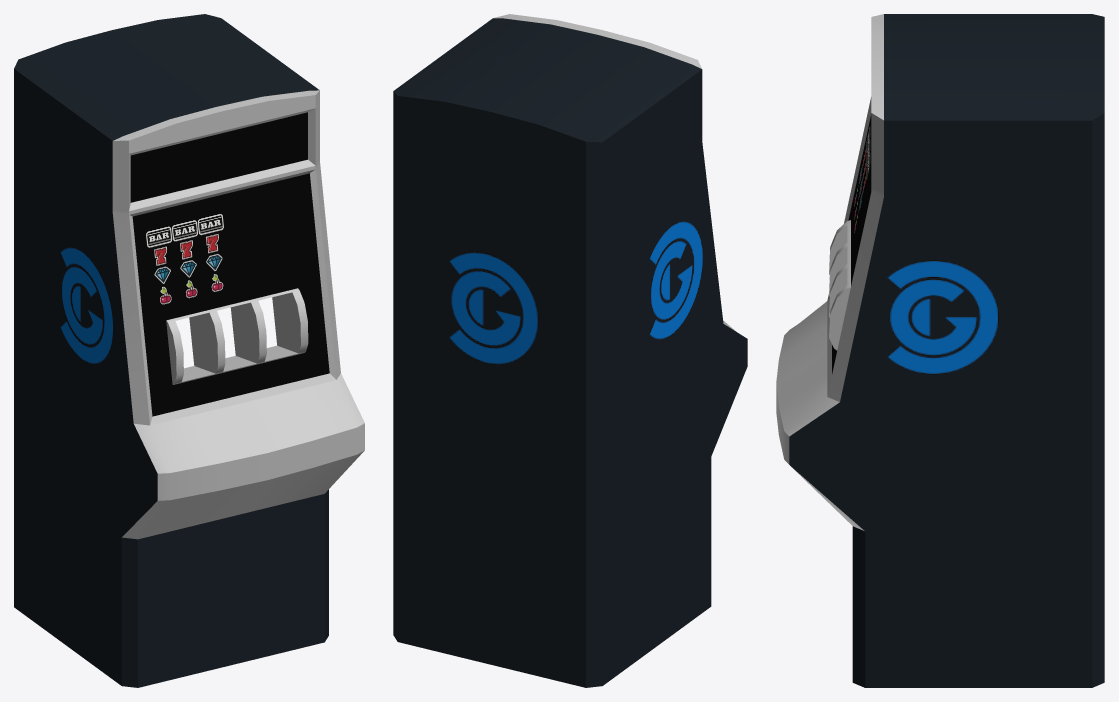
The model's file is slotMachine_1_collider.gltf.
3 views of the same model, side by side, from view 1: azimuth 30°, elevation 25°; view 2: azimuth 150°, elevation 25°; view 3: azimuth 270°, elevation 25° (orthographic). The views are drawn at different scales.
Parts seen in each view (by area): view 1: NewBody.V3; view 2: NewBody.V3; view 3: NewBody.V3.
Part boxes in pixels (x1,y1,x2,y2): NewBody.V3: [14, 14, 364, 687]; NewBody.V3: [393, 14, 747, 687]; NewBody.V3: [776, 14, 1104, 687].
Size of what is drawn, in the model's own units: 2 by 5.05 by 2.61.
Materials: 5 (2 with a texture image).
